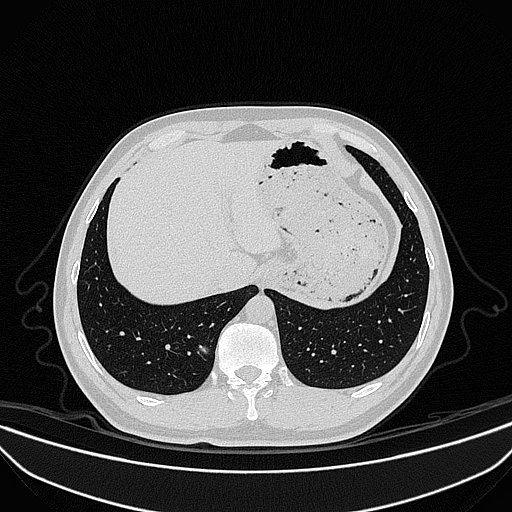nodule: (201, 346, 207, 353)
